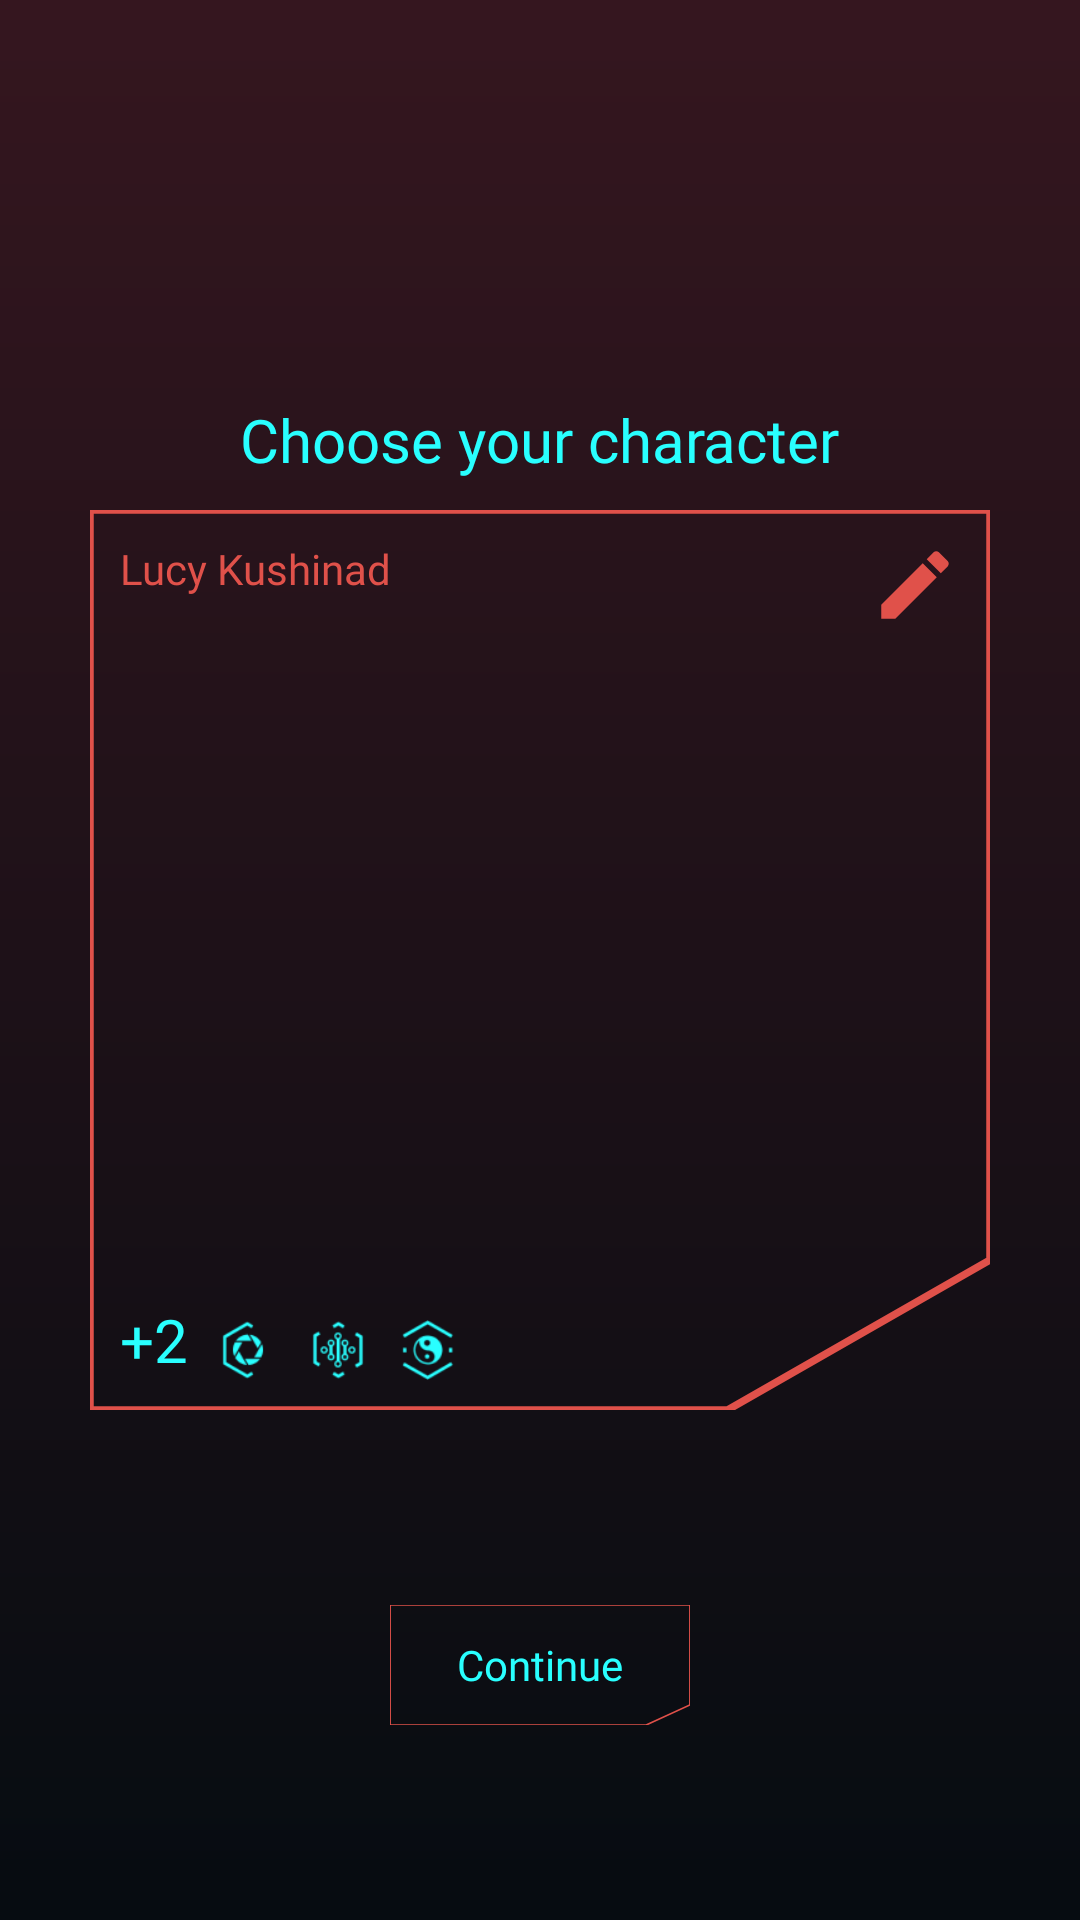

Named icons in this screenshot (1080w x 1920h) and their centers, point (x, y):
cyberpunk inteligencia: point (338, 1350)
cyberpunk reflejos: point (242, 1350)
edit: point (915, 585)
